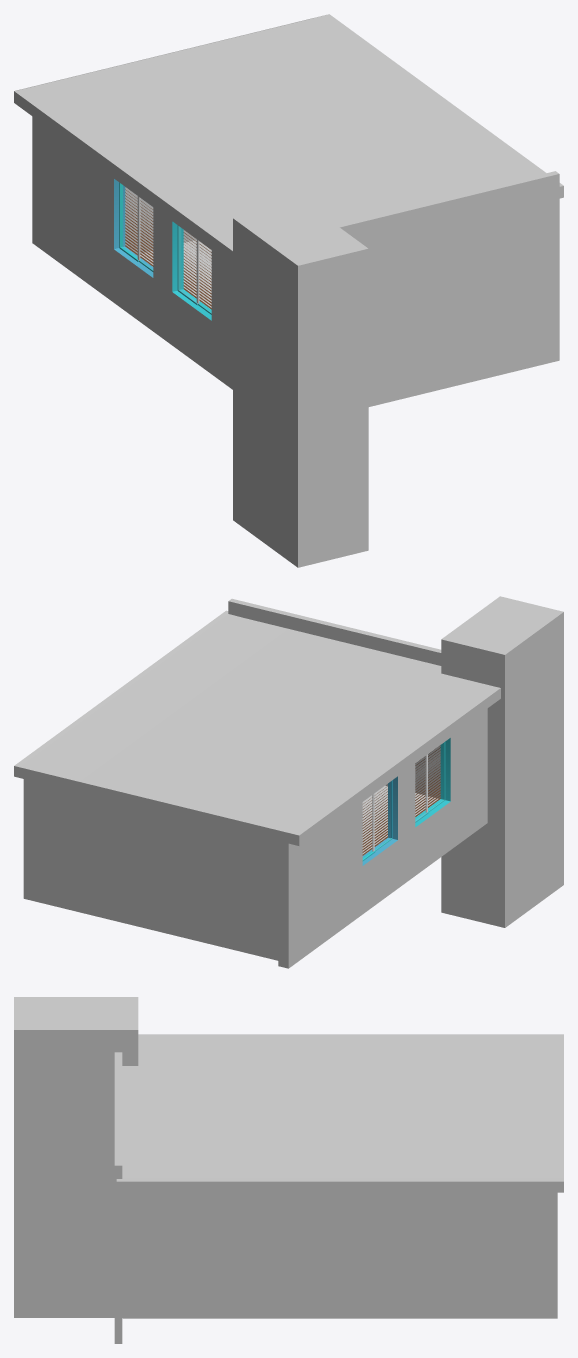
Rendered from museo2.glb.
3 views of the same model, one above another, from view 1: azimuth 30°, elevation 25°; view 2: azimuth 150°, elevation 25°; view 3: azimuth 270°, elevation 25° (orthographic). The views are drawn at different scales.
Parts seen in each view (by area): view 1: Decke, Würfel.1, Würfel, Wand_Fenster, Wand, Würfel.1_2, Würfel.5_2, Würfel.4_3, Würfel.5_26_1, Würfel.5_21; view 2: Decke, Wand, Würfel.1, Wand_Fenster, Würfel, Würfel.5_2, Würfel.4_3, Würfel.5_26_1, Würfel.5_21; view 3: Decke, Wand, Würfel.1, Würfel.
Boxes of the visible parts, <box> form: Decke: <box>14,14,563,262</box>; Würfel.1: <box>233,201,368,567</box>; Würfel: <box>336,171,559,406</box>; Wand_Fenster: <box>32,116,232,389</box>; Wand: <box>140,240,211,308</box>; Würfel.1_2: <box>125,187,196,253</box>; Würfel.5_2: <box>172,221,211,320</box>; Würfel.4_3: <box>114,179,153,277</box>; Würfel.5_26_1: <box>125,189,153,266</box>; Würfel.5_21: <box>183,230,211,309</box>; Decke: <box>14,610,500,845</box>; Wand: <box>23,779,438,960</box>; Würfel.1: <box>441,596,563,927</box>; Wand_Fenster: <box>278,708,487,968</box>; Würfel: <box>228,598,441,798</box>; Würfel.5_2: <box>415,738,450,827</box>; Würfel.4_3: <box>362,776,397,865</box>; Würfel.5_26_1: <box>362,786,387,855</box>; Würfel.5_21: <box>415,747,440,816</box>; Decke: <box>116,1034,563,1192</box>; Wand: <box>122,1192,557,1318</box>; Würfel.1: <box>14,997,138,1317</box>; Würfel: <box>114,1052,122,1343</box>.
Bounding box in the file's own units: 567 × 511 × 885.
